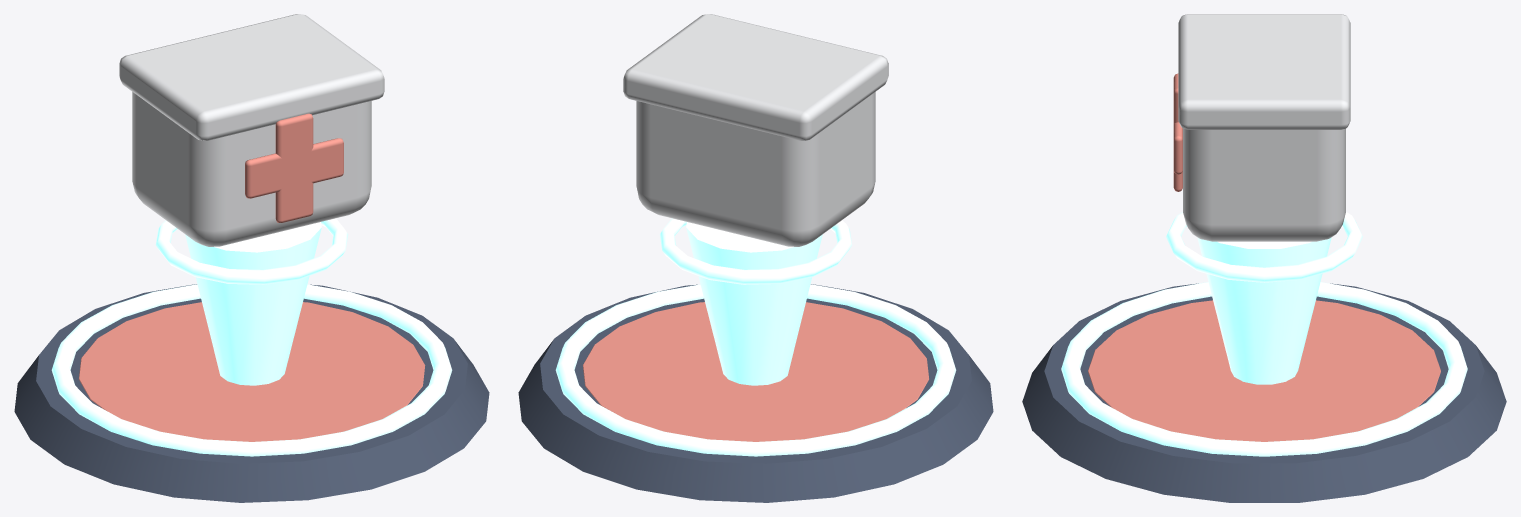
Rendered from hero-shooter-harbour-payload-pickup-health-large-3b5bc453__27678.glb.
The picture shows the model from 3 angles, left to right: view 1: azimuth 30°, elevation 25°; view 2: azimuth 150°, elevation 25°; view 3: azimuth 270°, elevation 25°; orthographic projection.
Parts seen in each view (by area): view 1: pickup-health-large, item/shell, item/coral; view 2: pickup-health-large, item/shell; view 3: pickup-health-large, item/shell, item/coral.
Part boxes in pixels (x1,y1,x2,y2): pickup-health-large: [14, 218, 489, 502]; item/shell: [119, 14, 384, 246]; item/coral: [245, 113, 343, 222]; pickup-health-large: [518, 218, 993, 502]; item/shell: [623, 14, 888, 246]; pickup-health-large: [1022, 212, 1506, 502]; item/shell: [1178, 14, 1350, 241]; item/coral: [1173, 73, 1182, 191].
Size of the model in its own units: 1 by 0.795 by 1.01.
